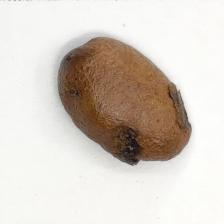NG: (111, 118, 147, 167), (167, 76, 194, 132)
